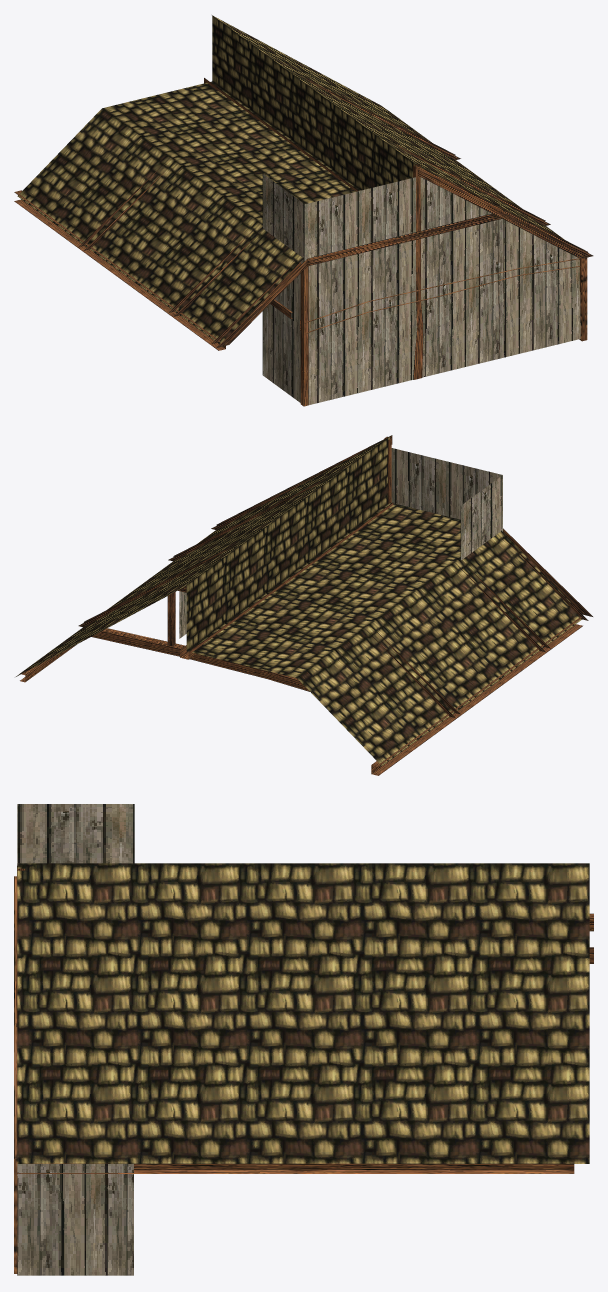
File: LAKETOWN_PUB_PS_PUB_ROOFBACKWALL9__GX.fbx
3 renders of one model, top to bottom at view 1: azimuth 30°, elevation 25°; view 2: azimuth 150°, elevation 25°; view 3: azimuth 270°, elevation 25°, orthographic. The views are drawn at different scales.
Parts seen in each view (by area): view 1: LAKETOWN_PUB_PS_PUB_ROOFBACKWALL9__GX; view 2: LAKETOWN_PUB_PS_PUB_ROOFBACKWALL9__GX; view 3: LAKETOWN_PUB_PS_PUB_ROOFBACKWALL9__GX.
Part boxes in pixels (x1,y1,x2,y2): LAKETOWN_PUB_PS_PUB_ROOFBACKWALL9__GX: (14,15,593,406); LAKETOWN_PUB_PS_PUB_ROOFBACKWALL9__GX: (16,435,592,775); LAKETOWN_PUB_PS_PUB_ROOFBACKWALL9__GX: (14,804,593,1275).
Bounding box in the file's own units: 114692 × 62488 × 109694.
Materials: 5 (5 with a texture image).
